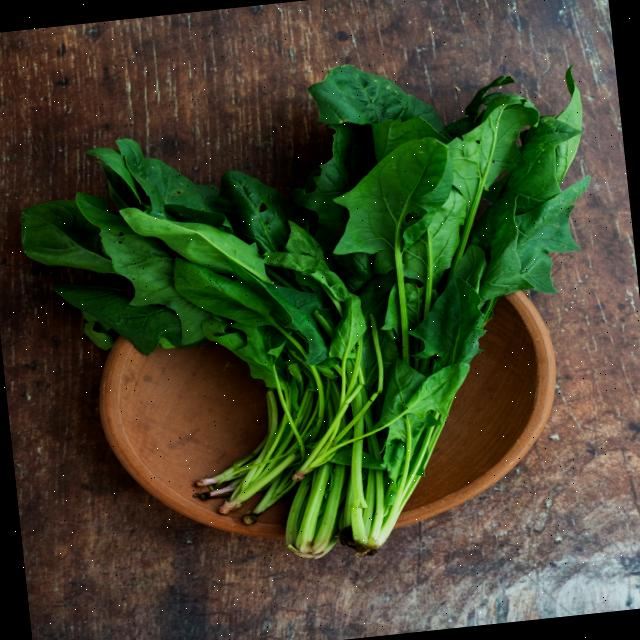spinach: (10, 33, 640, 597)
